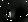person: (4, 10, 11, 20)
